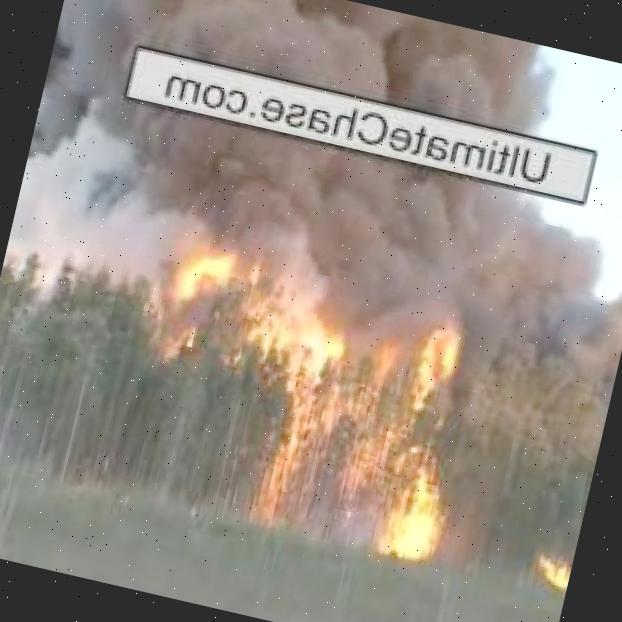fire: (235, 281, 491, 574), (144, 225, 246, 358), (529, 549, 573, 599)
